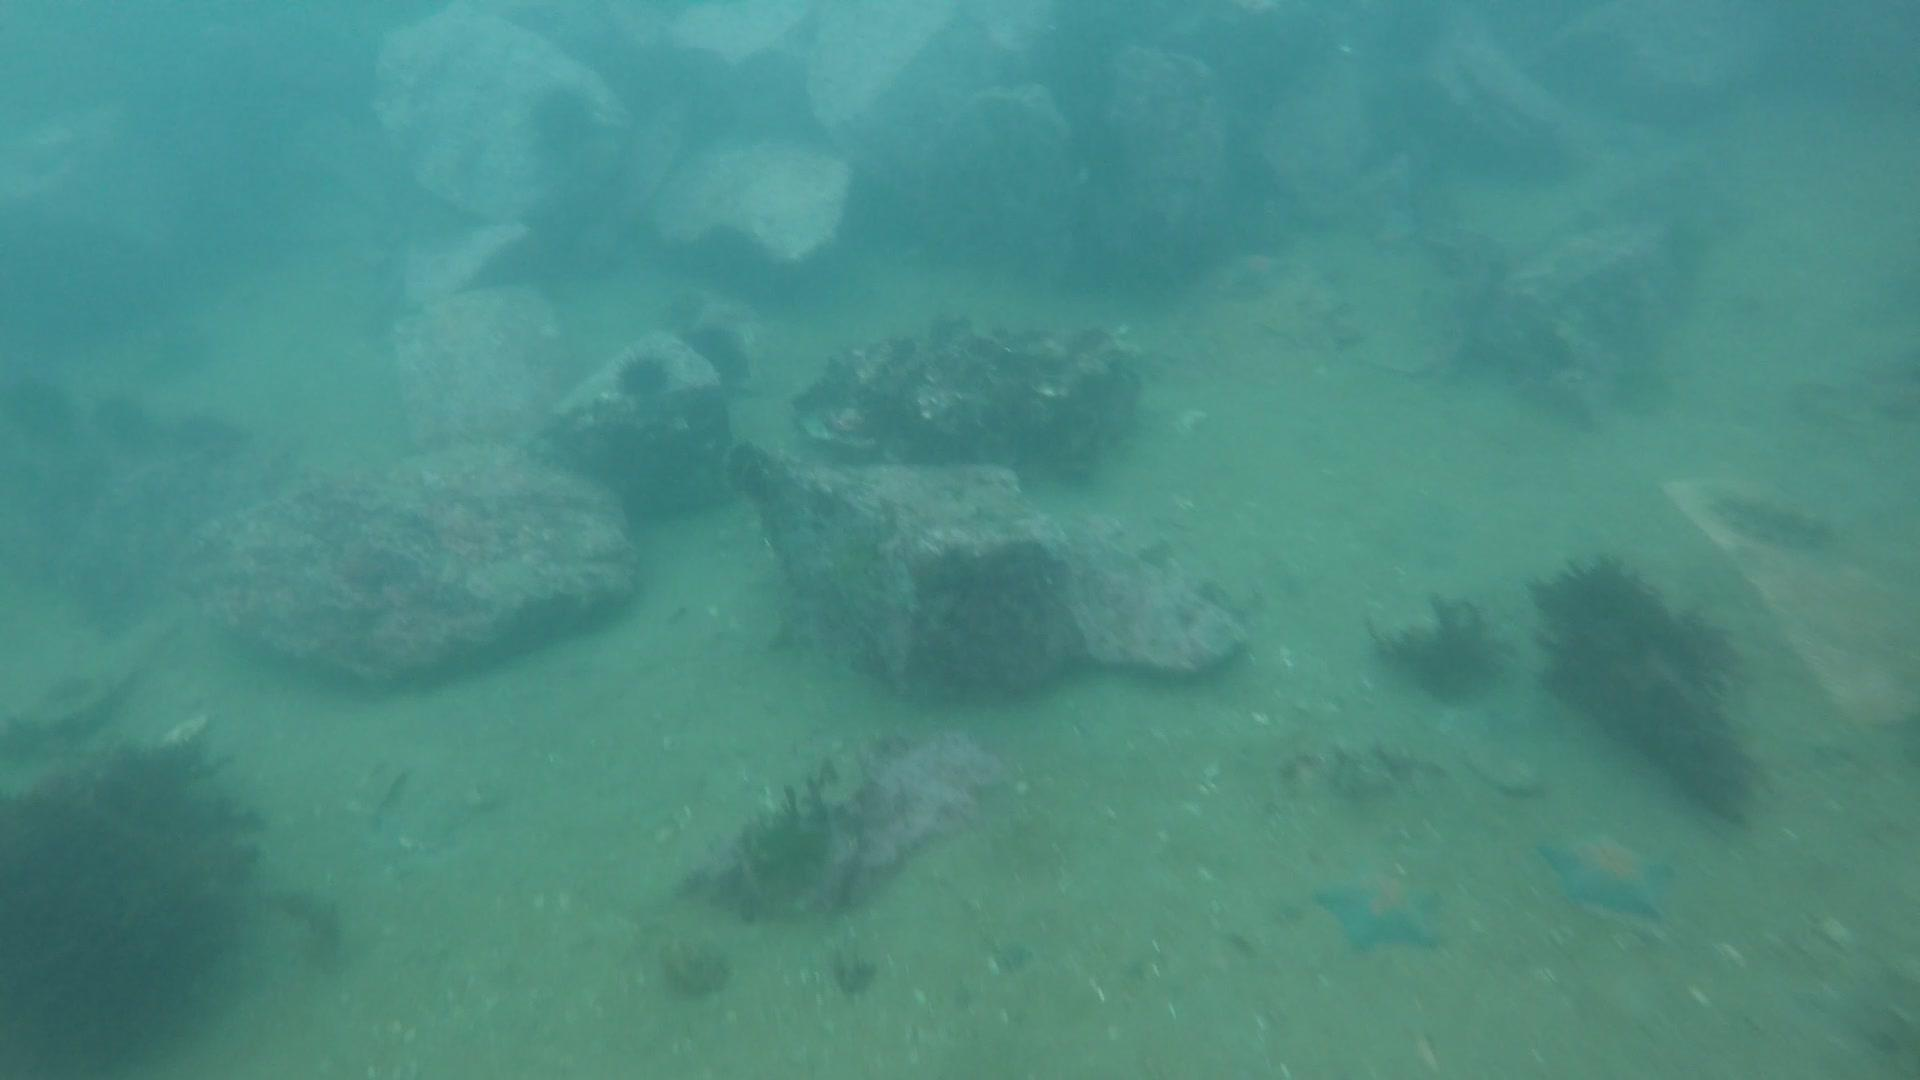echinus: (516, 86, 603, 153), (17, 377, 76, 455), (87, 388, 153, 452), (696, 330, 753, 390), (611, 351, 673, 404)
holothurian: (1706, 483, 1846, 558), (76, 469, 141, 567), (533, 434, 596, 483)
starfish: (1531, 822, 1683, 935), (1308, 861, 1456, 963), (1215, 249, 1292, 293)
